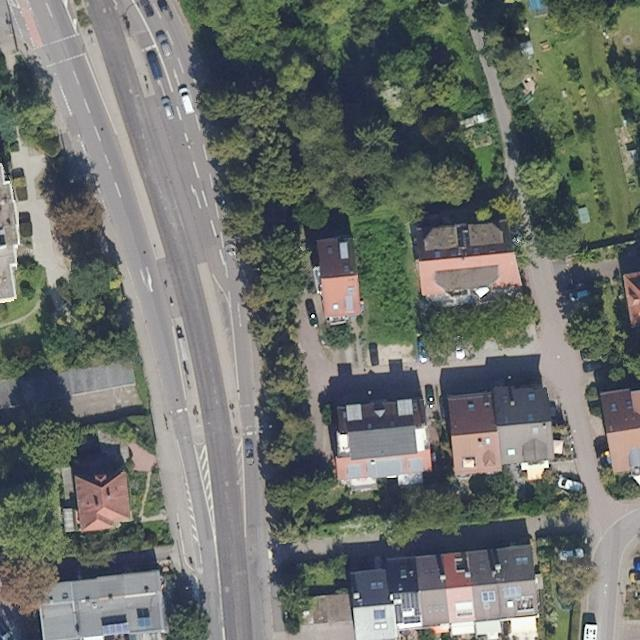PV: (392, 592, 420, 624), (368, 460, 400, 476), (102, 623, 129, 636), (503, 585, 522, 598), (348, 463, 360, 478), (480, 591, 496, 602), (373, 609, 386, 620), (137, 618, 151, 627), (410, 459, 421, 470), (345, 296, 353, 310)
